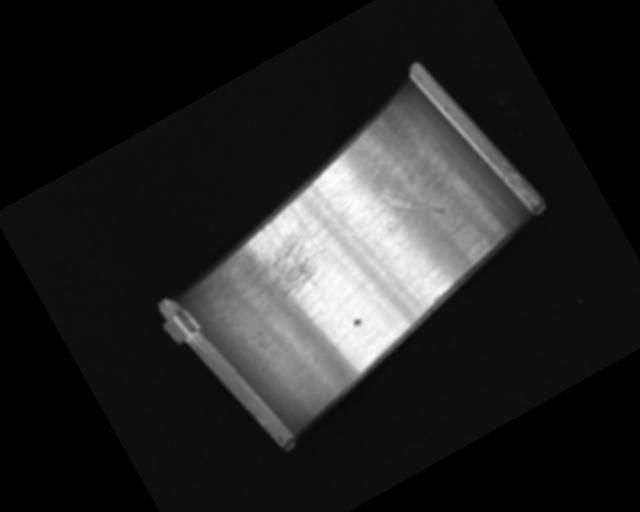bruise: (351, 315, 365, 328)
nick: (340, 210, 431, 329), (442, 153, 519, 247), (384, 175, 445, 235), (355, 148, 393, 202)
scratch: (202, 198, 343, 328)
